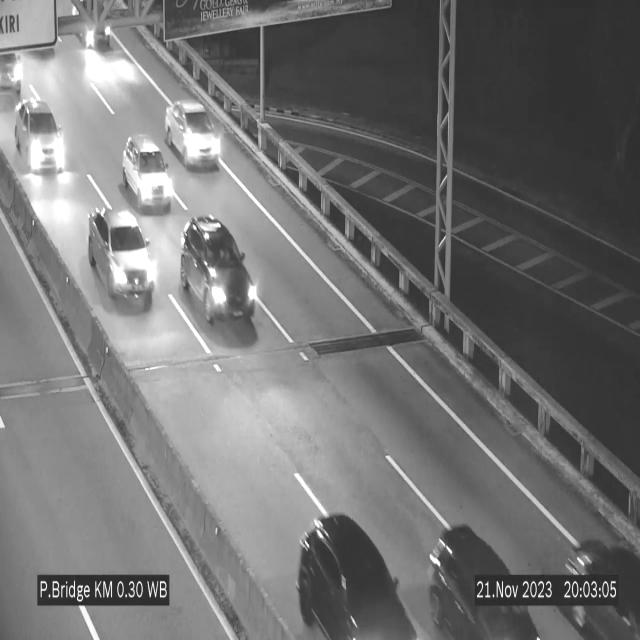Car: (284, 496, 426, 640), (421, 496, 545, 640), (552, 523, 639, 640), (180, 218, 258, 332), (88, 209, 156, 306), (14, 98, 66, 185), (122, 133, 173, 212), (164, 100, 220, 170), (0, 38, 32, 99)
